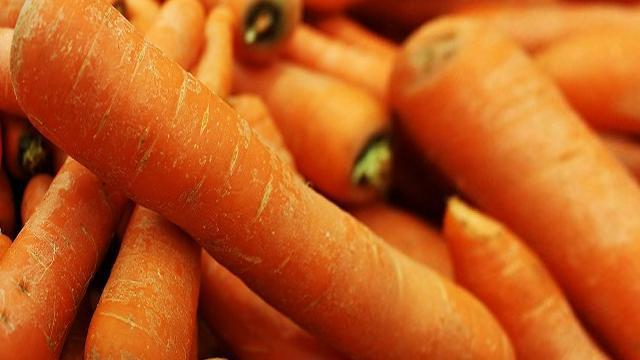carrot: (9, 0, 517, 360), (246, 8, 640, 360), (5, 0, 213, 356)
